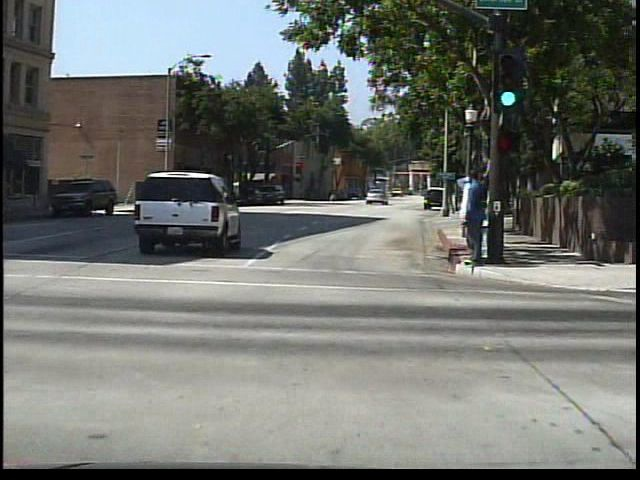person: (460, 169, 488, 270), (453, 172, 481, 270), (325, 186, 336, 203)
